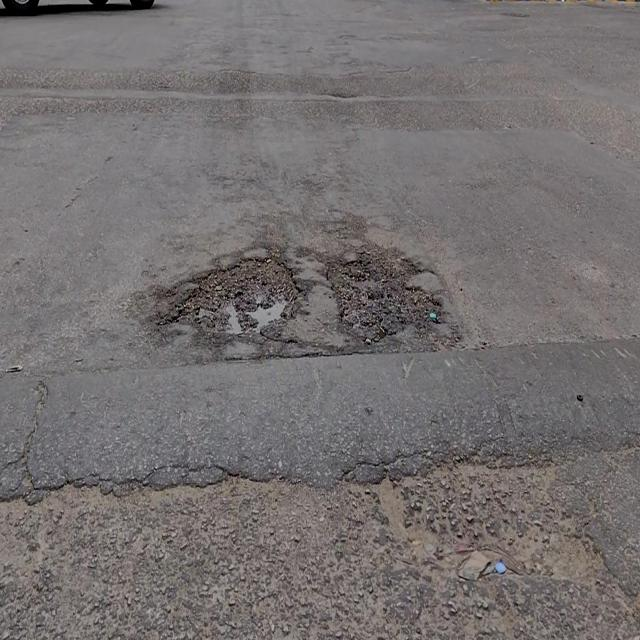Potholes: (324, 230, 443, 344), (163, 247, 301, 343)
